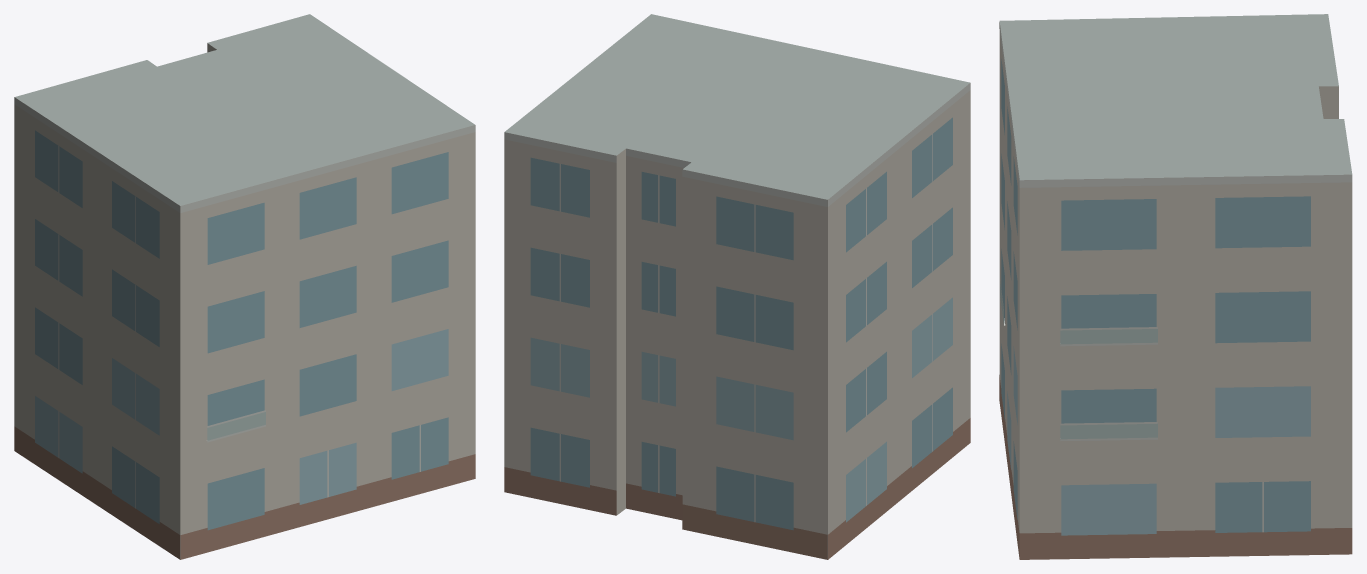
Rendered from survey-upis-32698629.glb.
3 renders of one model, left to right at view 1: azimuth 30°, elevation 25°; view 2: azimuth 150°, elevation 25°; view 3: azimuth 270°, elevation 25°, orthographic. The views are drawn at different scales.
Visible parts, largest first — view 1: survey-upis-32698629.tmp; view 2: survey-upis-32698629.tmp; view 3: survey-upis-32698629.tmp.
Part boxes in pixels (x1,y1,x2,y2): survey-upis-32698629.tmp: (14, 14, 475, 559); survey-upis-32698629.tmp: (504, 14, 970, 559); survey-upis-32698629.tmp: (999, 14, 1352, 559).
Size of the model in its own units: 11.37 by 12.1 by 10.2.
